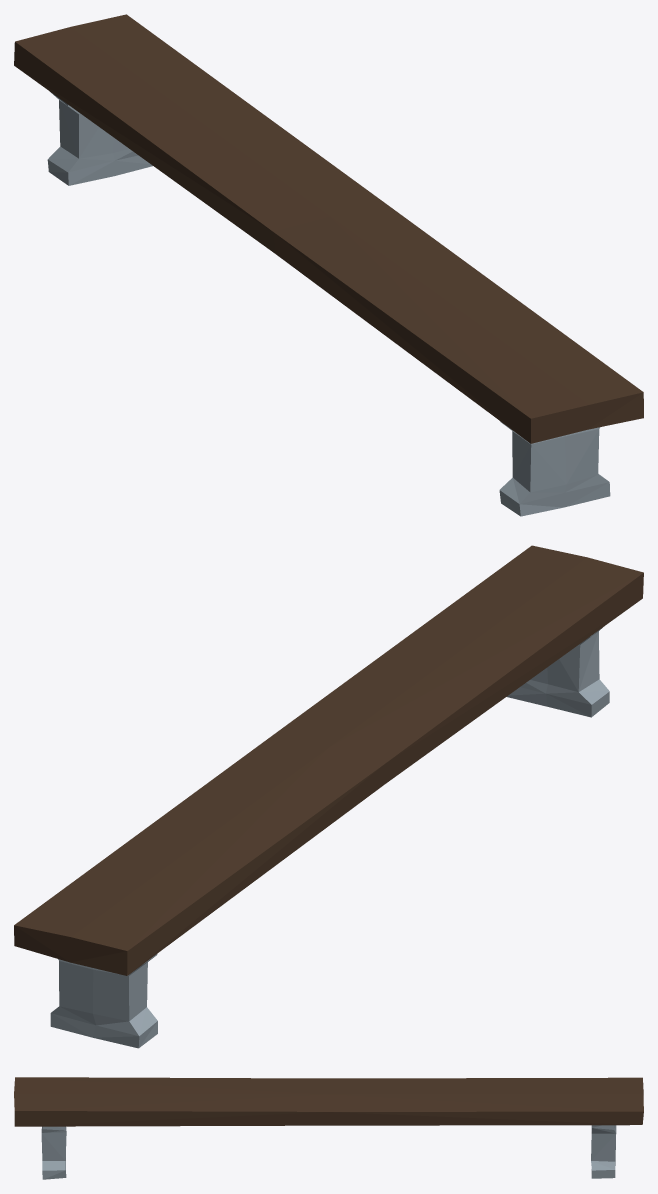
Rendered from Bench_Long.fbx.
The picture shows the model from 3 angles, top to bottom: view 1: azimuth 30°, elevation 25°; view 2: azimuth 150°, elevation 25°; view 3: azimuth 270°, elevation 25°; orthographic projection. The views are drawn at different scales.
Visible parts, largest first — view 1: Bench_Long; view 2: Bench_Long; view 3: Bench_Long.
Part boxes in pixels (left/top/right/bottom): Bench_Long: left=14, top=14, right=643, bottom=516; Bench_Long: left=14, top=545, right=643, bottom=1048; Bench_Long: left=14, top=1077, right=643, bottom=1179.
Size of the model in its own units: 1.02 by 1.02 by 8.02.
